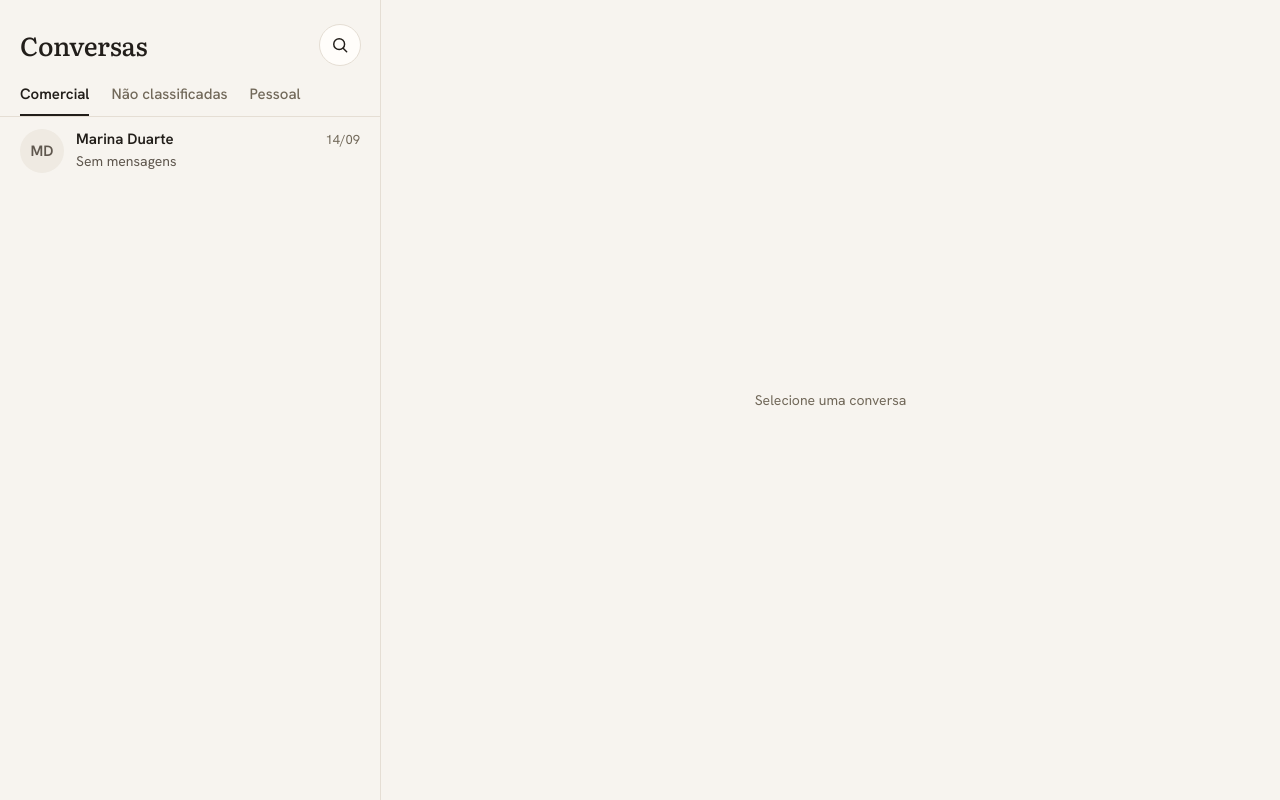
Test: as três abas são servidas pelo backend › trocar de aba refaz a consulta com a categoria da aba e a aba corrente fica visível
The image size is (1280, 800).
Expected: the text "Marina Duarte" is shown, [76,129,174,149]
Click the tab "Não classificadas" at x=170, y=100, box [112,84,228,116]
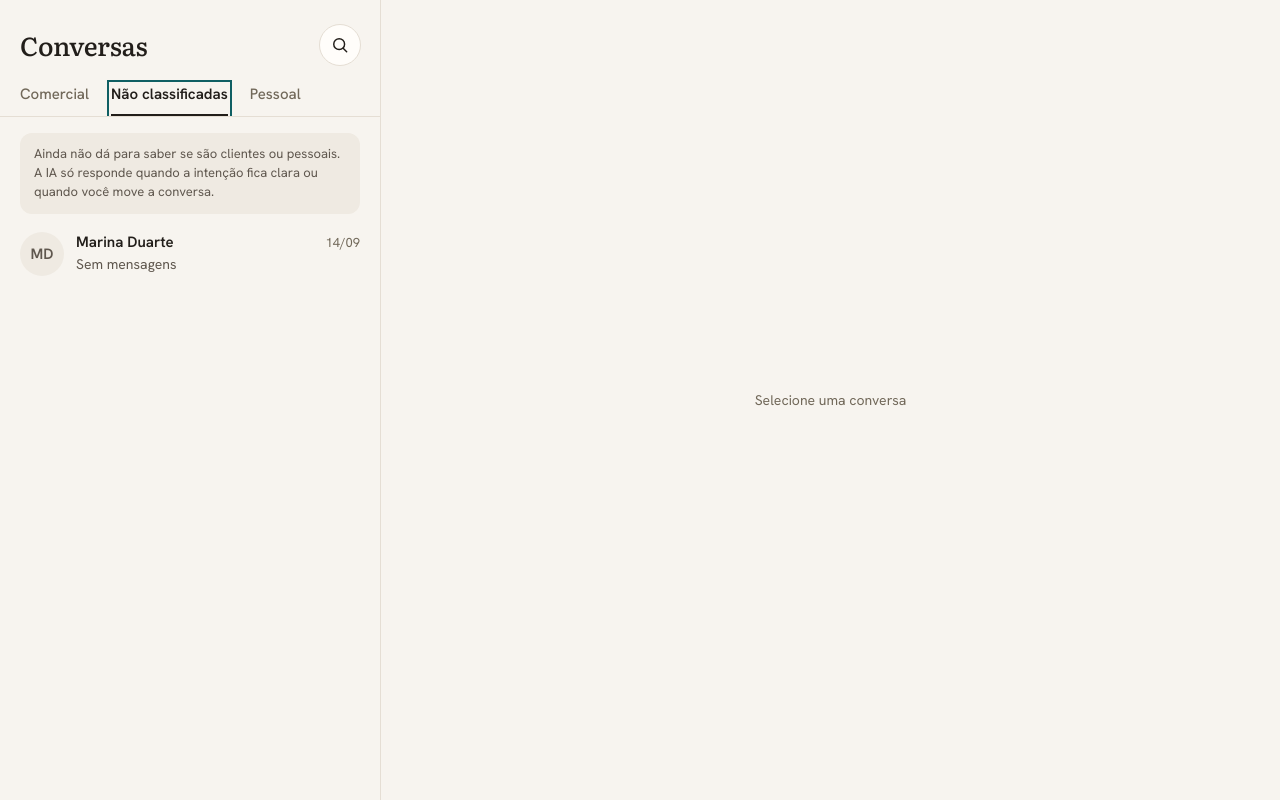
Expected: the panel named "Conversas · Não classificadas" is shown, [20,230,360,276]
